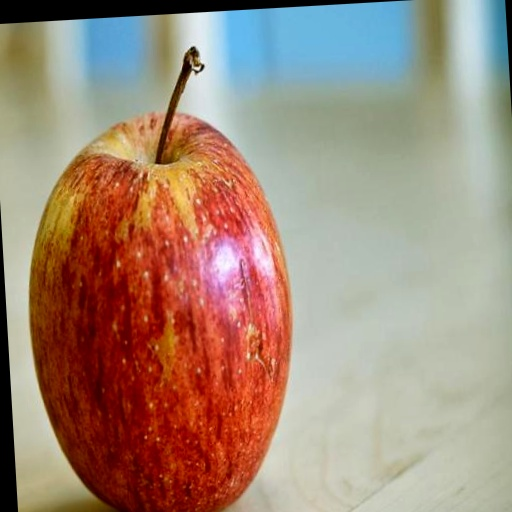fruit: (30, 114, 291, 512)
